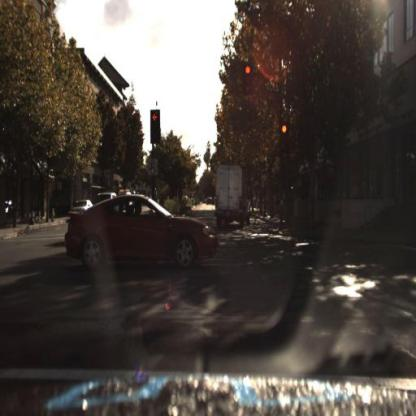car: (64, 186, 223, 277), (216, 162, 254, 230), (72, 195, 97, 222), (71, 197, 96, 222)
trafficLight: (246, 66, 251, 92)
trafficLight-Red: (282, 125, 288, 153)
trafficLight-RedLeft: (153, 110, 162, 140)
